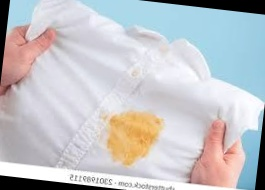mustard: (103, 108, 164, 168)
